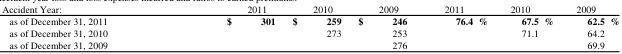table: (1, 1, 618, 50)
table column: (1, 1, 166, 50), (166, 1, 283, 50), (349, 1, 425, 50), (425, 1, 498, 50), (283, 1, 349, 50), (498, 1, 564, 50), (564, 1, 618, 50)
table column header: (1, 1, 618, 13)
table row: (1, 13, 618, 26), (1, 1, 618, 13), (1, 26, 618, 38), (1, 38, 618, 50)
